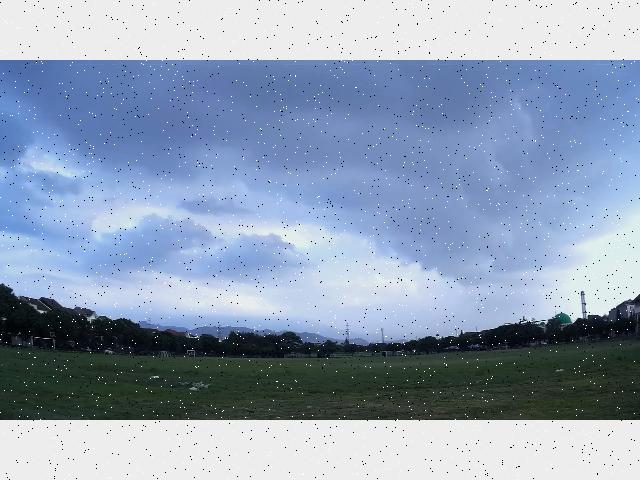Anti-Drone: (500, 316, 556, 326)
